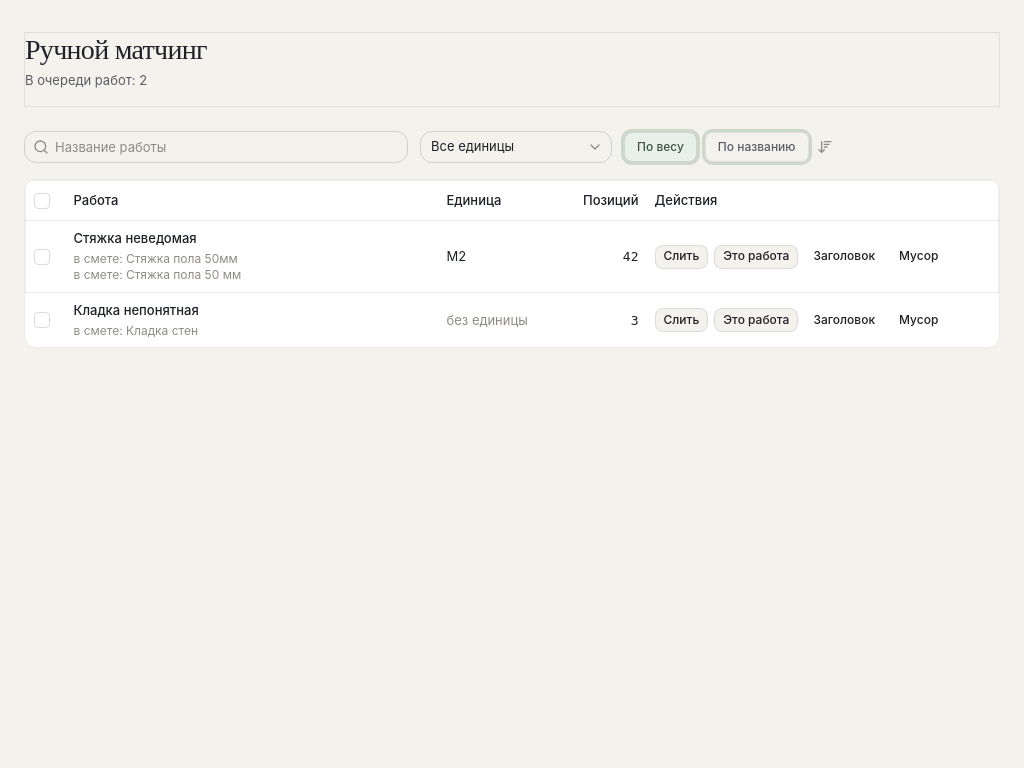
Test case: Пакетная разметка (решение §6.5) › пропущенные строки не роняют пакет и объясняются отдельно
This screenshot has width=1024, height=768.
Expected: the text "Стяжка неведомая" is shown, x1=74 y1=230 x2=197 y2=246
Click the checkbox named "Выбрать все строки на странице" at (42, 201), box x1=34 y1=193 x2=50 y2=209
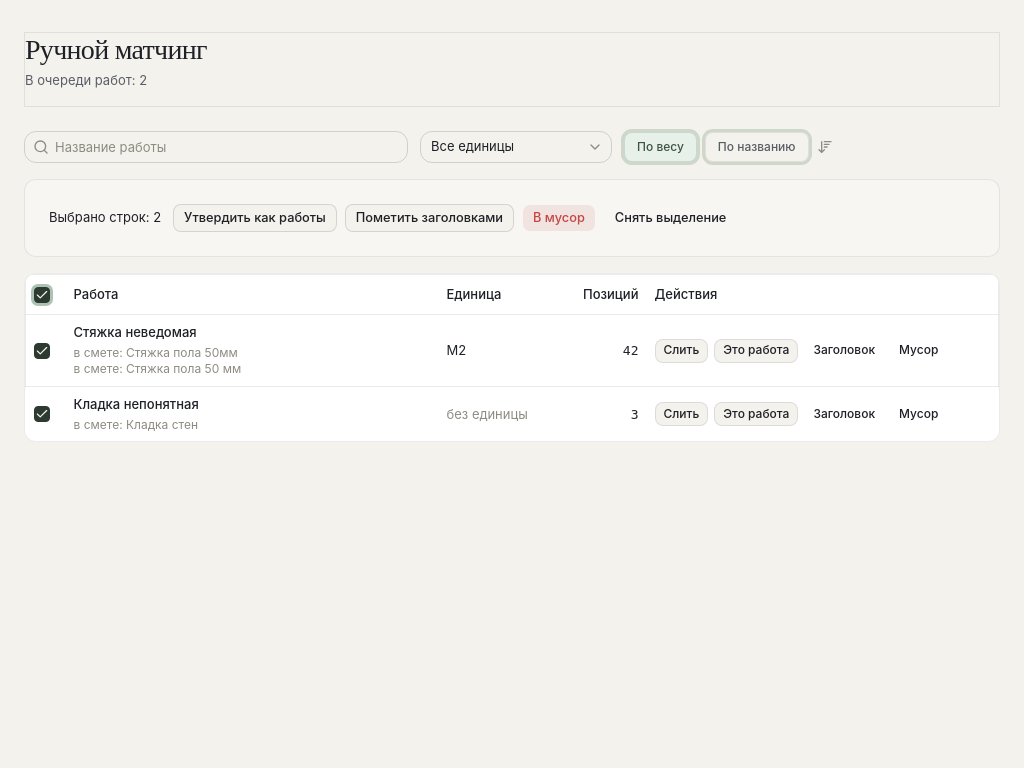
Click the button "В мусор" at (559, 218), box x1=522 y1=204 x2=596 y2=232
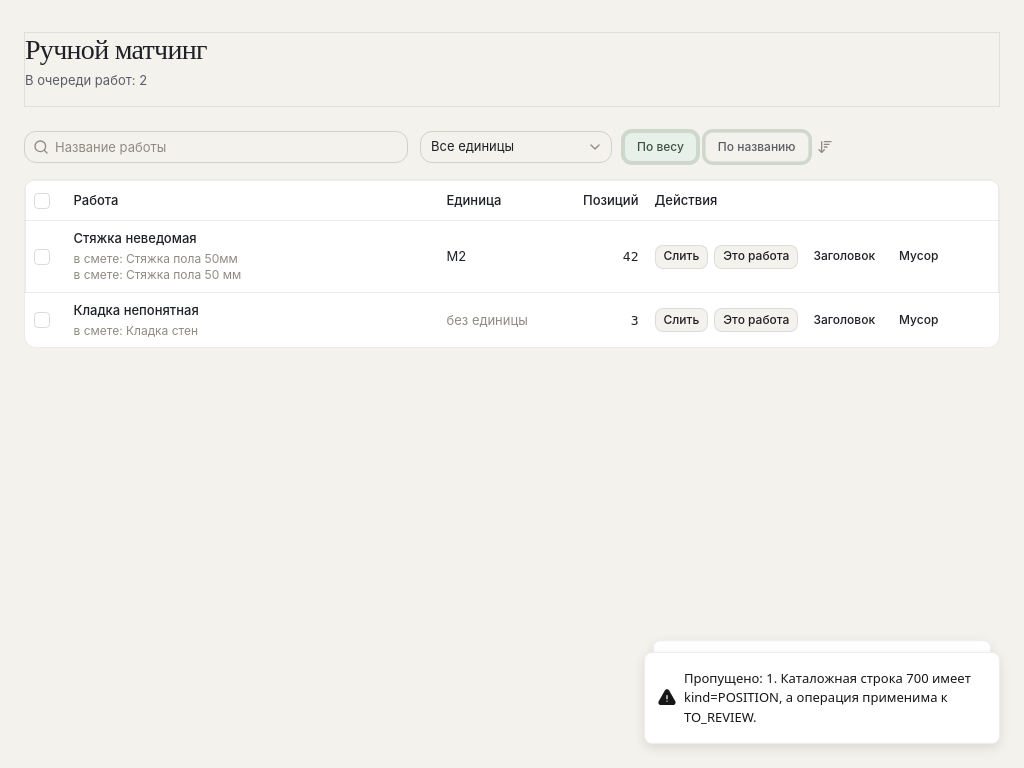
Expected: the text "Пропущено: 1" is shown, x1=684 y1=668 x2=971 y2=726
